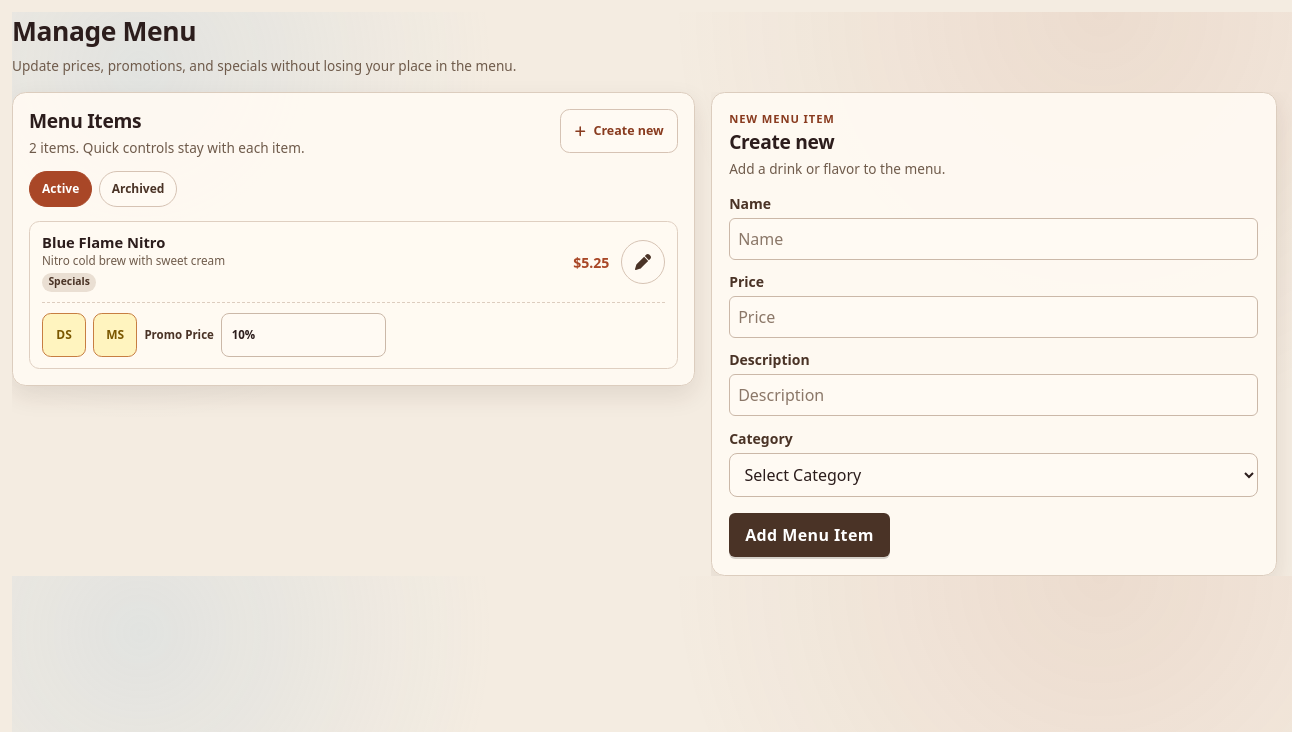
Test: ManageMenu › loads one item into the editor with archive and protected permanent deletion
Click the button named "Edit Blue Flame Nitro": (642, 262) [620, 240, 664, 284]
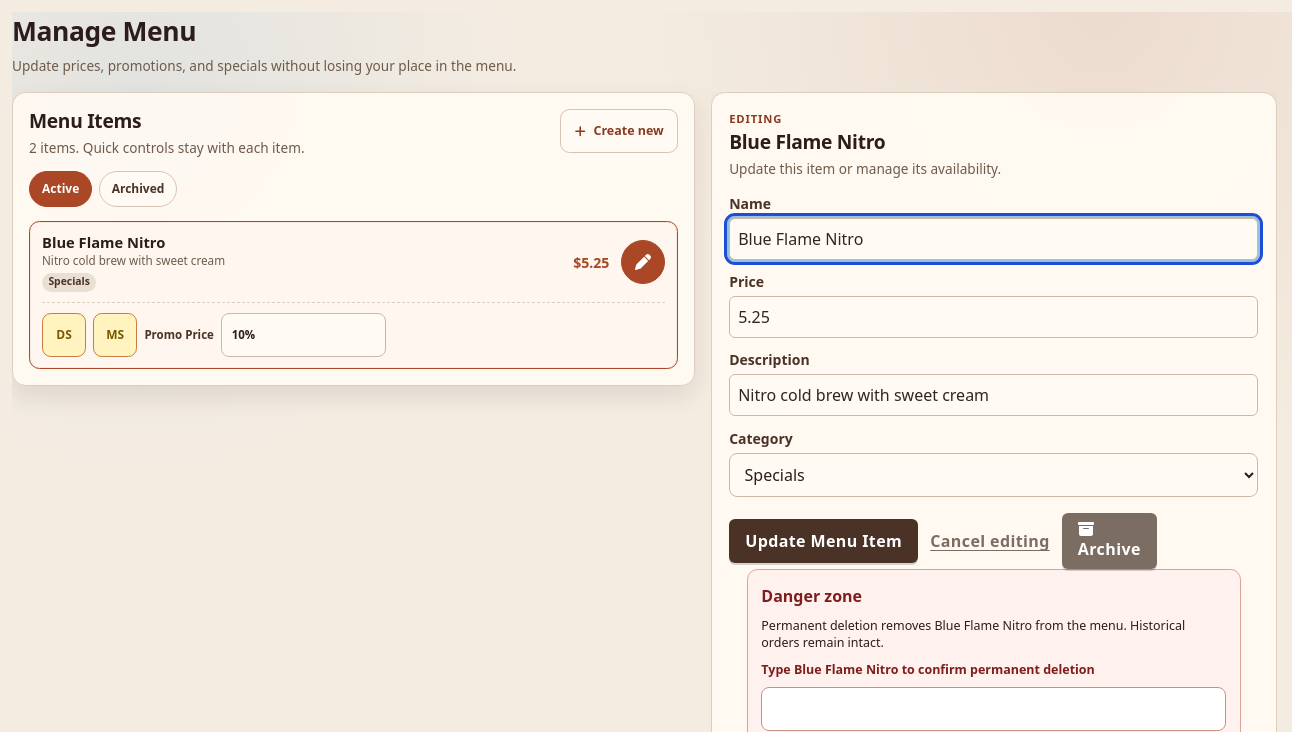
Now the heading "Blue Flame Nitro" is shown, box [729, 128, 885, 155]
Now the field labelled "Name" holds "Blue Flame Nitro", box [729, 218, 1258, 260]
Now the number field labelled "Price" holds "5.25", box [729, 296, 1258, 338]
